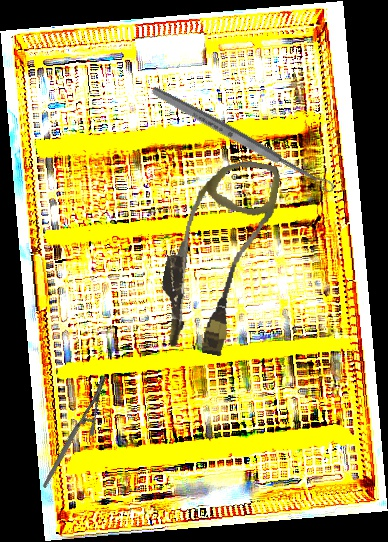Cannula: (150, 149, 283, 361)
Needle Holder: (14, 373, 134, 489)
Surgical Spoon: (148, 83, 337, 196)
